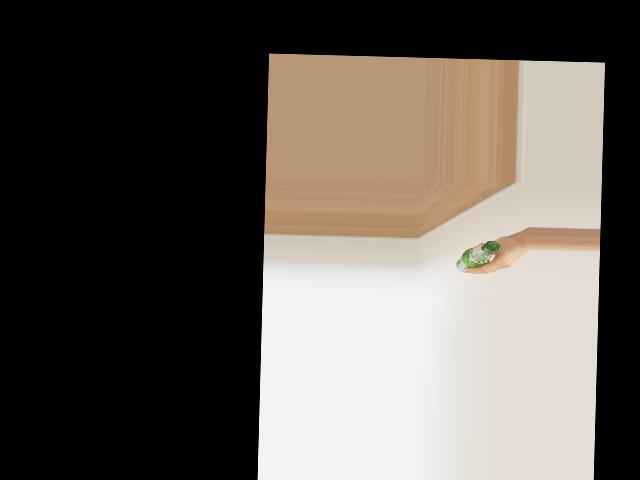beer: (456, 238, 500, 273)
